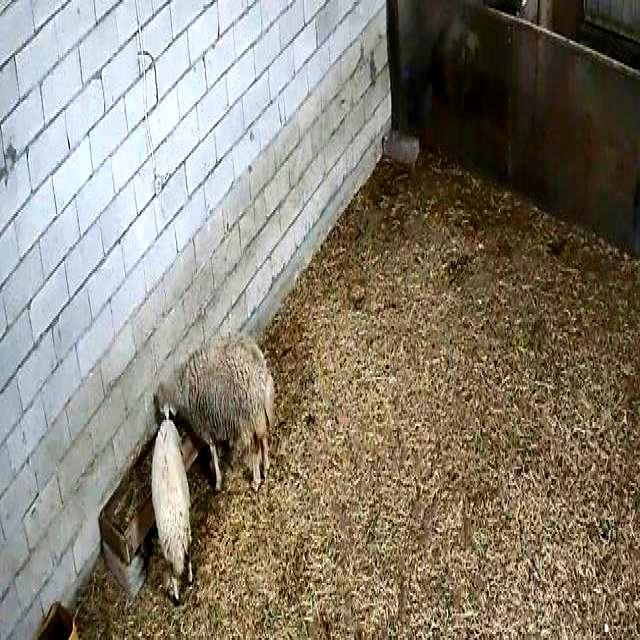sheep: (153, 336, 275, 495), (151, 421, 194, 604)
